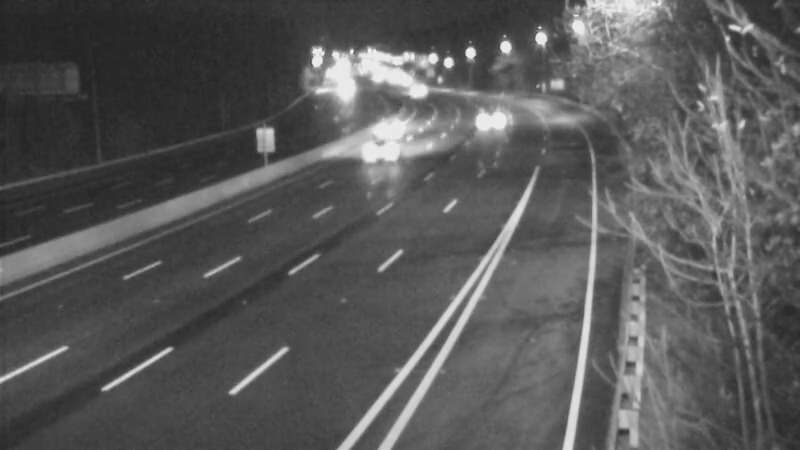vehicle: (392, 65, 442, 115), (464, 96, 514, 146), (374, 99, 424, 149), (372, 121, 422, 171)
